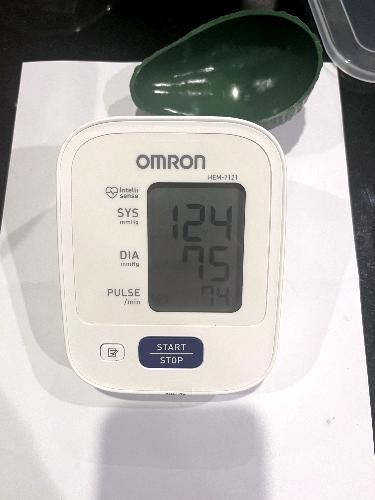bpm: (144, 180, 247, 315)
